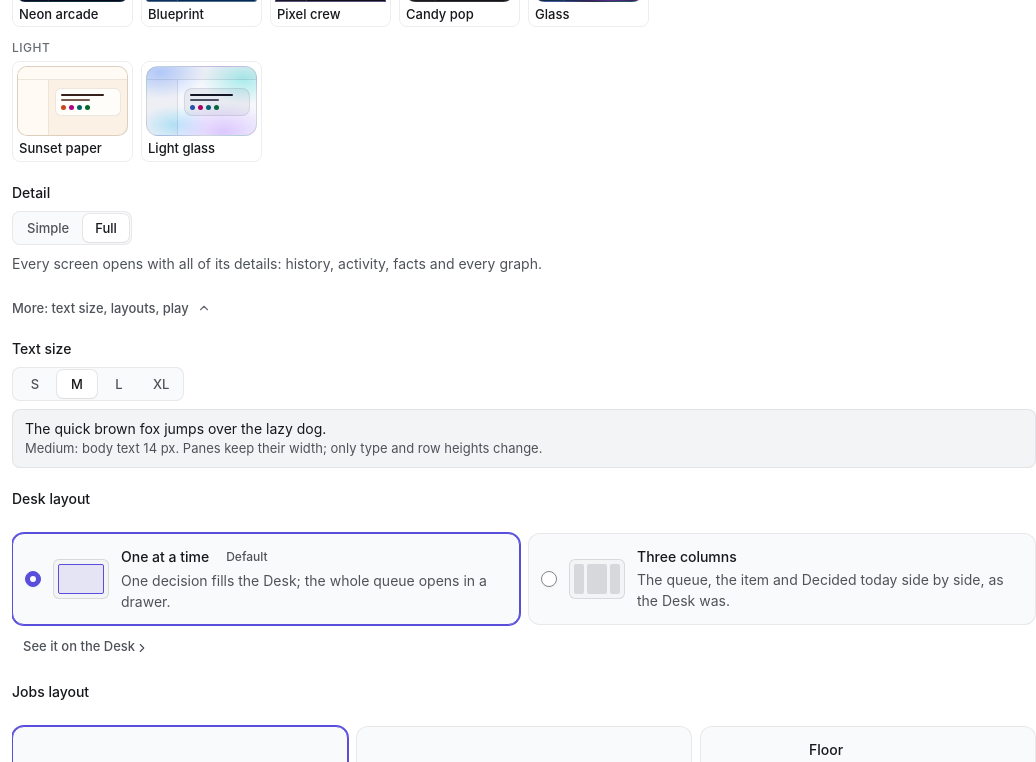
Settings → Look › text size: four choices, S M L XL, the one on checked; a pick sets html[data-text], is remembered, and the sample line follows
(page scrolled)
Expected: the radio button labelled "M" is checked, 57,370 -> 97,398
Expected: the text "The quick brown fox" is shown, 25,420 -> 326,437
Click the radio button labelled "XL" at (161, 384), box 141,370 -> 182,398
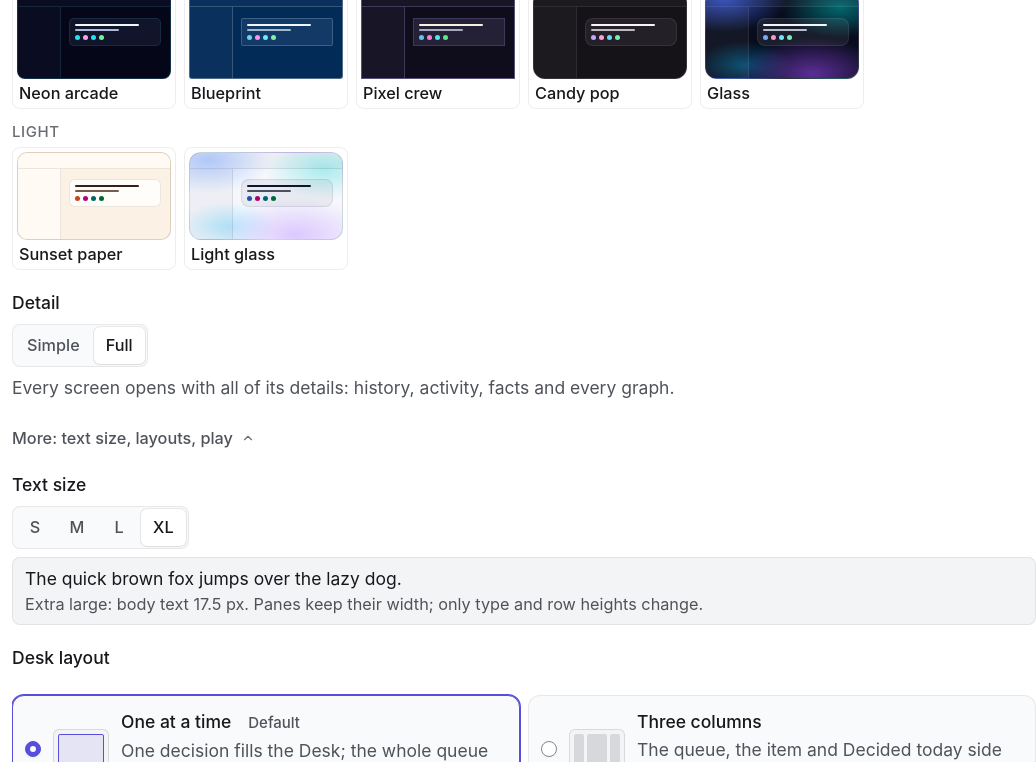
Now the radio button labelled "XL" is checked, box 141,509 -> 186,546
Now the radio button labelled "M" is not checked, box 57,509 -> 97,546
Now the text "Extra large: body text 17.5 px" is shown, box 25,594 -> 703,614
